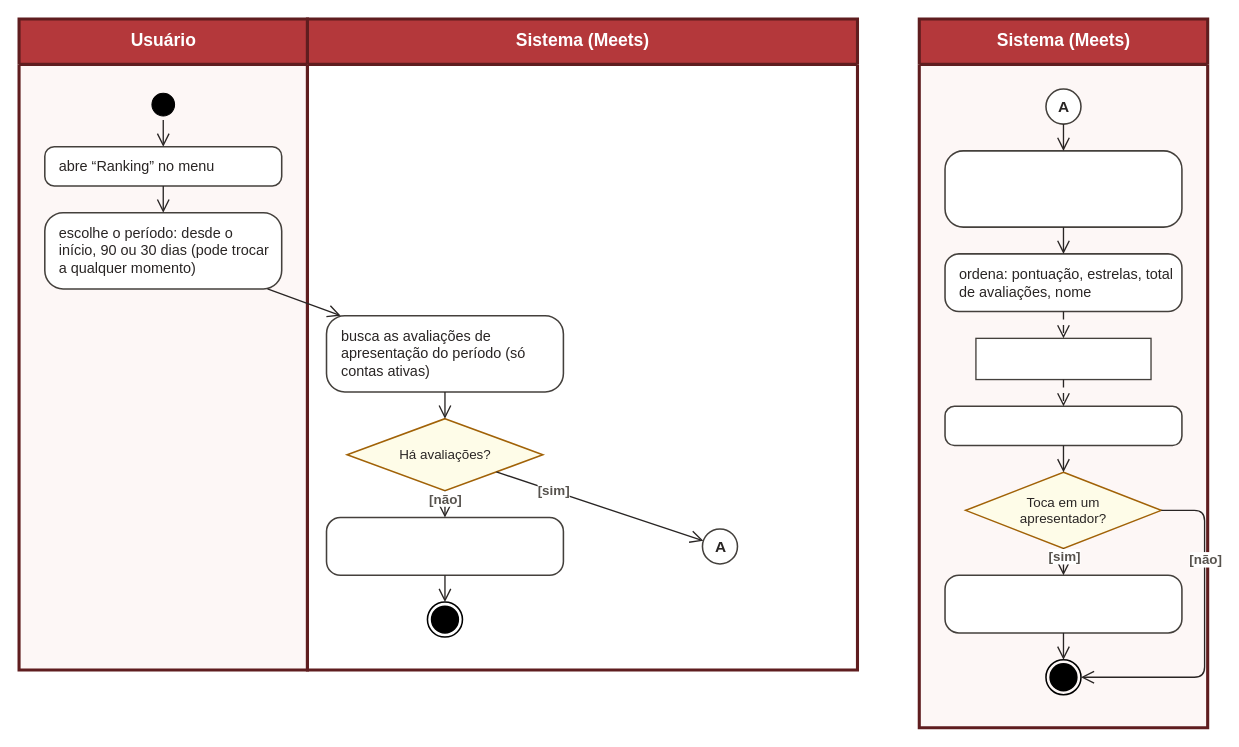
The diagram is 1239 pixels wide and 747 high, and some of its shapes have lost their labels. Here are the shapes that lost their labels. From the top down, the centre of each, then its label:
the point at 1063,188: calcula por apresentador: média por atributo, estrelas e pontuação geral
the point at 1063,358: r : Ranking [ordenado]
the point at 1063,425: exibe o pódio e a lista
the point at 444,546: informa que o ranking ainda não tem dados
the point at 1063,603: abre o perfil com as médias por atributo
